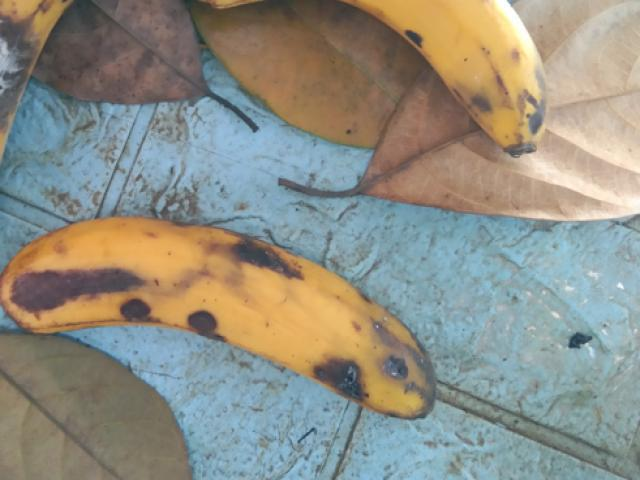overripe: (0, 211, 457, 440), (175, 0, 563, 157)
